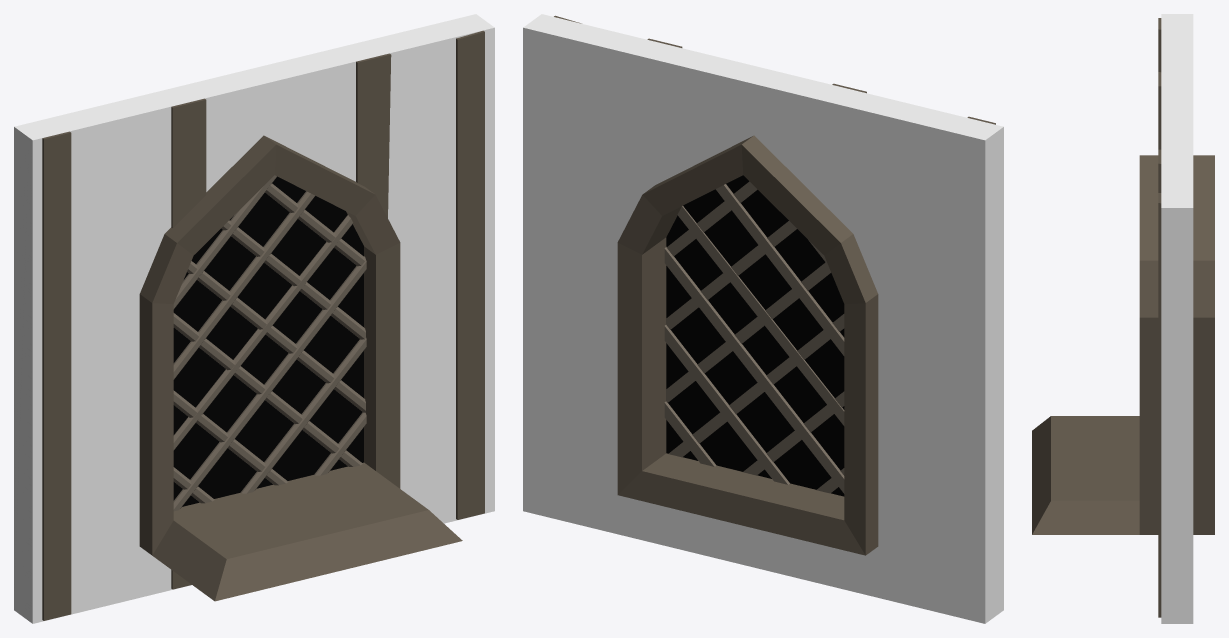
Rendered from ROOF_triangle_window_grid_1.glb.
3 renders of one model, left to right at view 1: azimuth 30°, elevation 25°; view 2: azimuth 150°, elevation 25°; view 3: azimuth 270°, elevation 25°, orthographic. The views are drawn at different scales.
Parts seen in each view (by area): view 1: ROOF_triangle_window_grid_1; view 2: ROOF_triangle_window_grid_1; view 3: ROOF_triangle_window_grid_1.
Boxes of the visible parts, x1,y1,x2,y2 form: ROOF_triangle_window_grid_1: (14, 14, 494, 623); ROOF_triangle_window_grid_1: (523, 14, 1003, 623); ROOF_triangle_window_grid_1: (1032, 14, 1214, 623).
Size of the model in its own units: 1 by 1 by 0.3984.
1 material, 1 textured.
